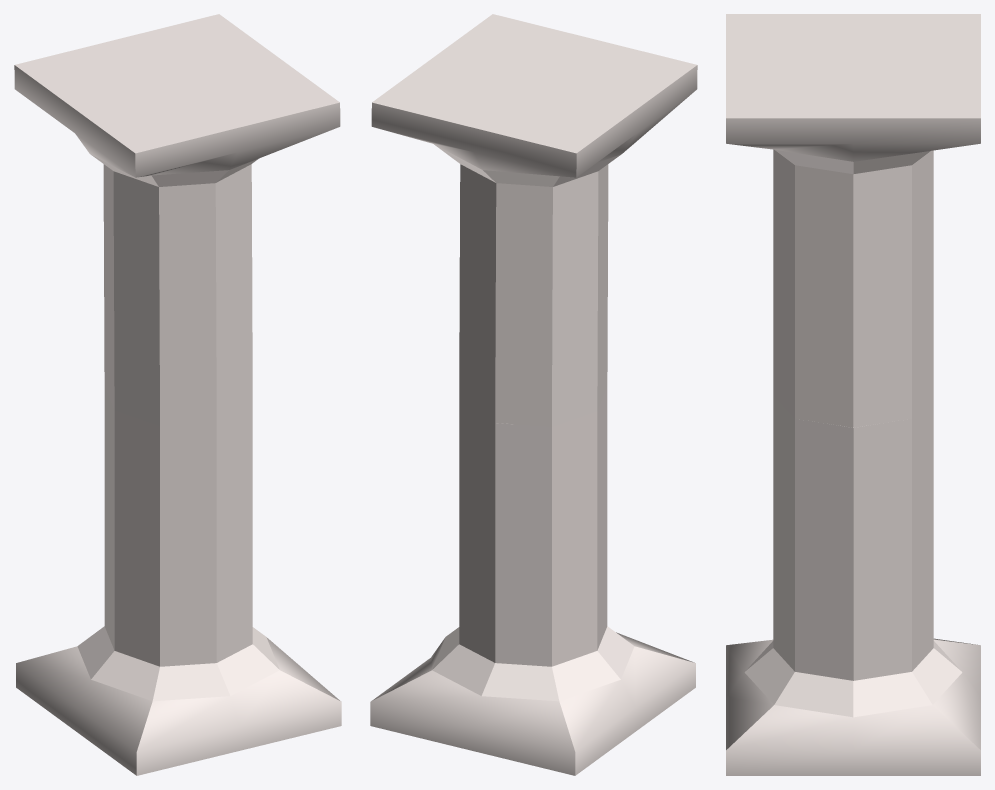
File: post.fbx
3 views of the same model, side by side, from view 1: azimuth 30°, elevation 25°; view 2: azimuth 150°, elevation 25°; view 3: azimuth 270°, elevation 25° (orthographic). The views are drawn at different scales.
Visible parts, largest first — view 1: Box018; view 2: Box018; view 3: Box018.
Boxes of the visible parts, x1,y1,x2,y2 form: Box018: (14, 14, 341, 775); Box018: (370, 14, 697, 775); Box018: (726, 14, 980, 775).
Bounding box in the file's own units: 94.16 × 272 × 95.72.
Materials: 1 (1 with a texture image).
